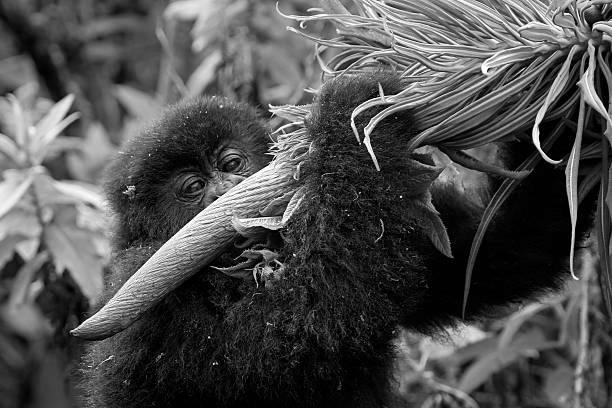goriile_montagne: (112, 99, 373, 386)
